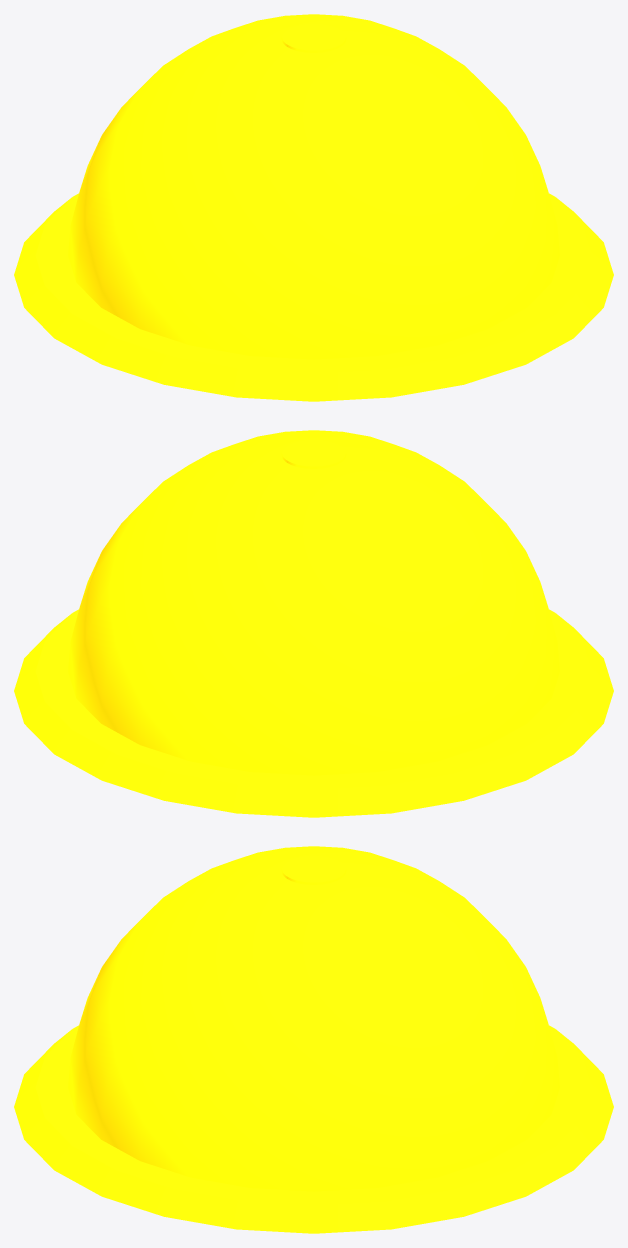
The model's file is capacete.glb.
3 renders of one model, top to bottom at view 1: azimuth 30°, elevation 25°; view 2: azimuth 150°, elevation 25°; view 3: azimuth 270°, elevation 25°, orthographic.
Visible parts, largest first — view 1: capacete; view 2: capacete; view 3: capacete.
Boxes of the visible parts, x1,y1,x2,y2 form: capacete: [14, 14, 613, 401]; capacete: [14, 430, 613, 817]; capacete: [14, 846, 613, 1233].
Size of the model in its own units: 1.12 by 0.49 by 1.12.
